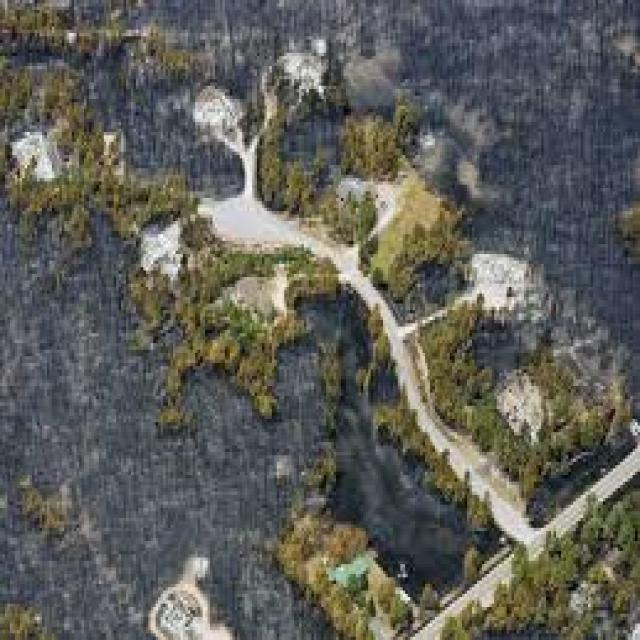Smoke: (323, 392, 463, 572)
